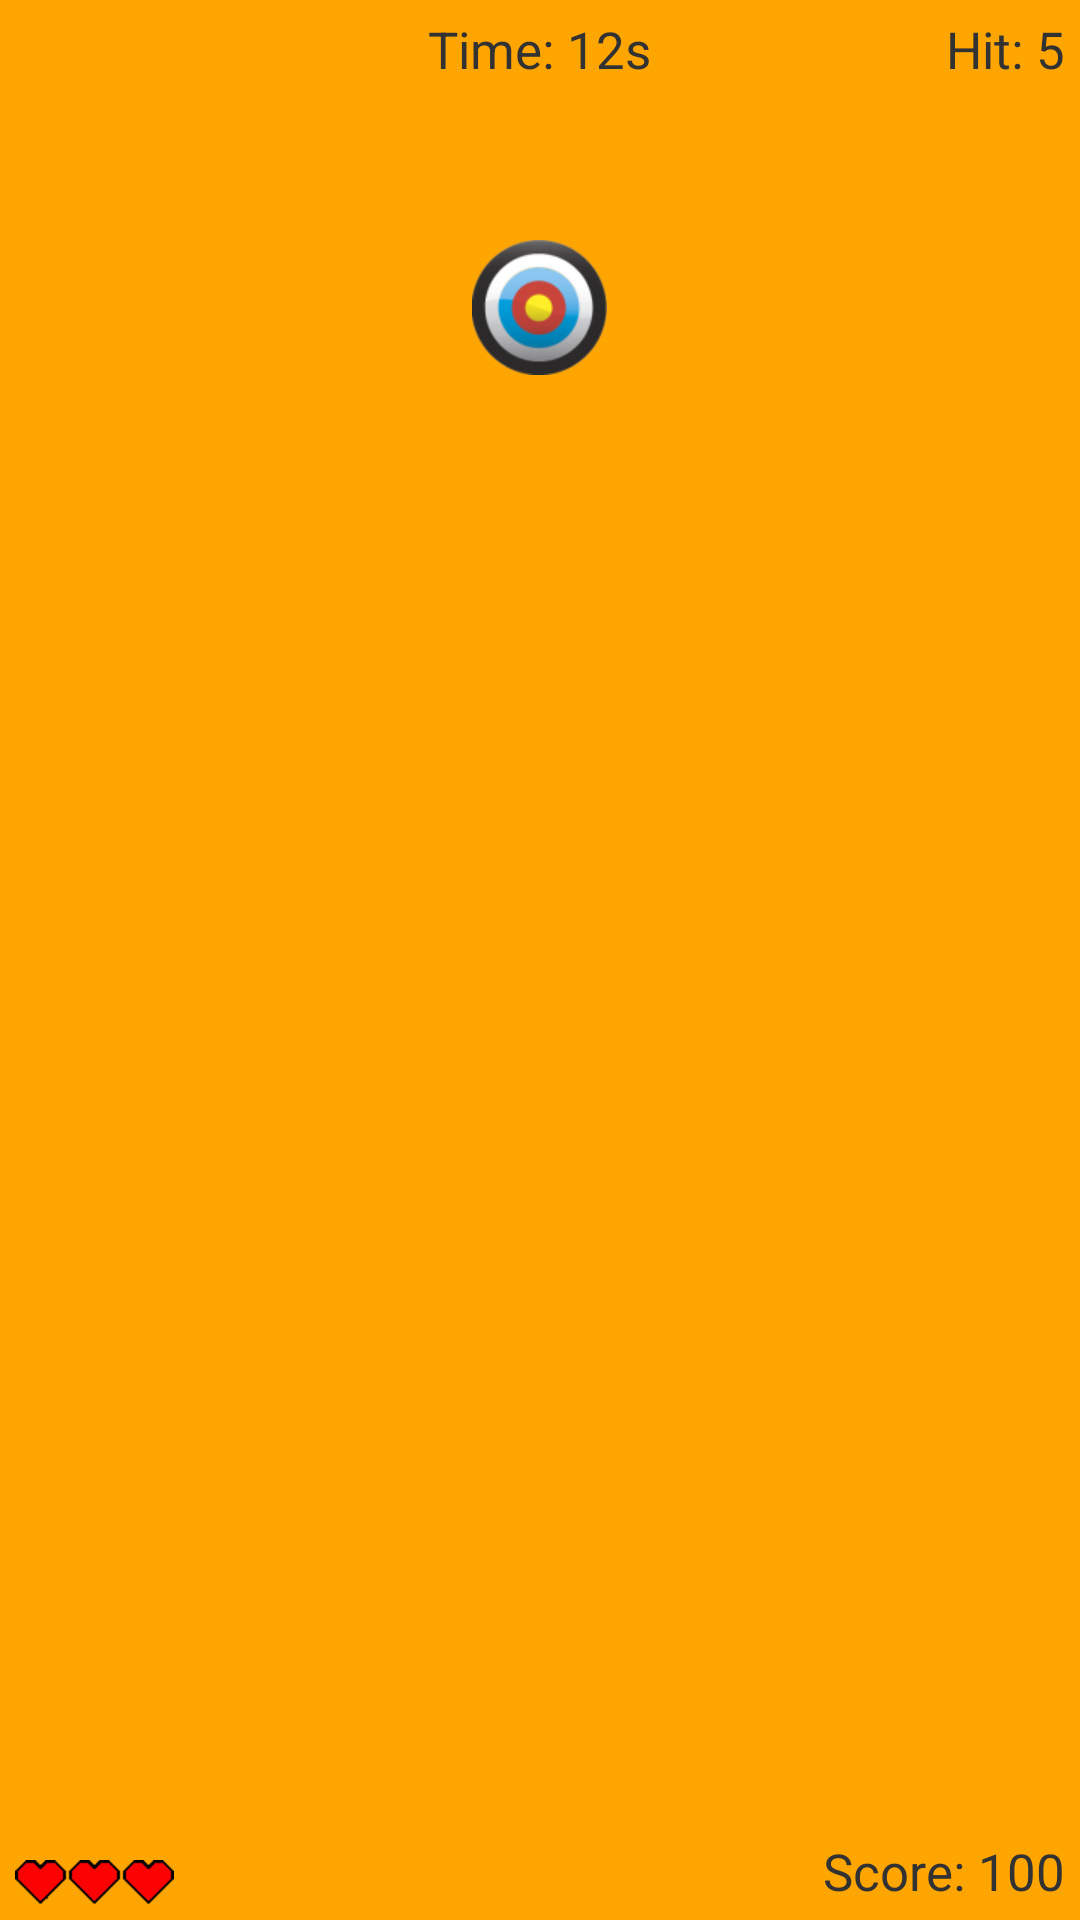

Locate icon controls on the screen. Image size 1080*1920, boxes as (x1, y1, x2, y2).
gametarget: (472, 240, 607, 375)
heart: (15, 1860, 174, 1904)
